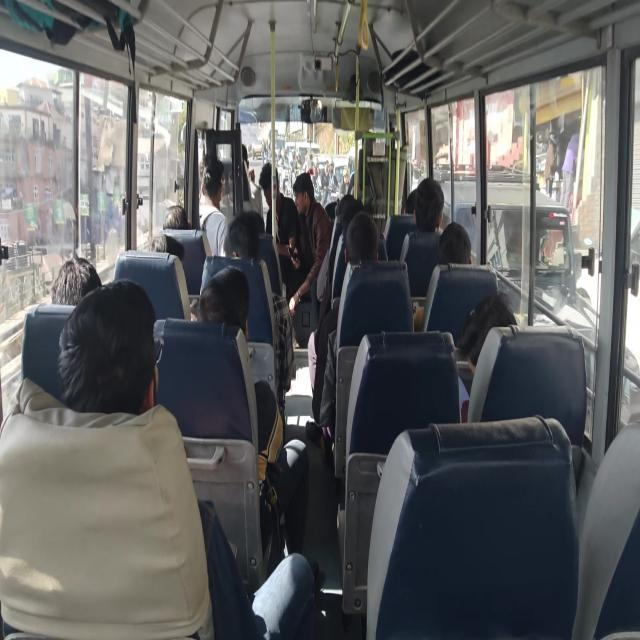person: (53, 289, 169, 424), (190, 265, 267, 340), (458, 295, 520, 378), (42, 246, 100, 309), (342, 206, 388, 265), (436, 217, 482, 272), (413, 177, 449, 233), (229, 208, 261, 268), (149, 221, 185, 269), (200, 154, 225, 222), (256, 159, 280, 221), (236, 194, 268, 240), (359, 118, 381, 172), (160, 194, 188, 231), (333, 188, 363, 222), (295, 171, 311, 223), (238, 137, 251, 171), (406, 188, 417, 220)
